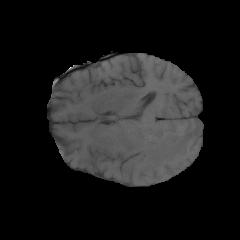glioma: (124, 123, 197, 171)
